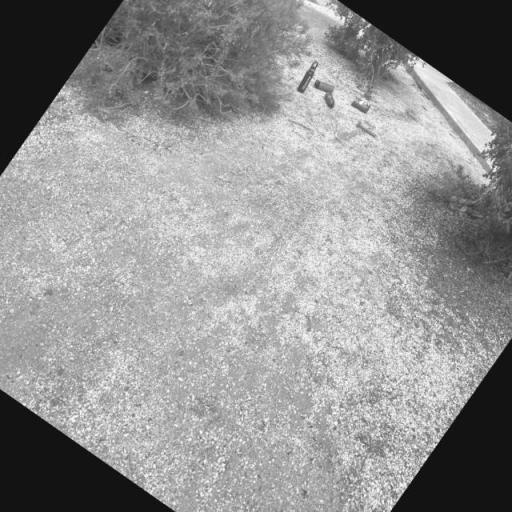bottle: (293, 59, 323, 95), (312, 75, 336, 97), (350, 94, 371, 114), (320, 90, 339, 108)
mallet: (355, 120, 377, 139)
